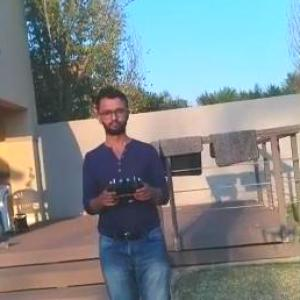follow: (78, 84, 178, 299)
